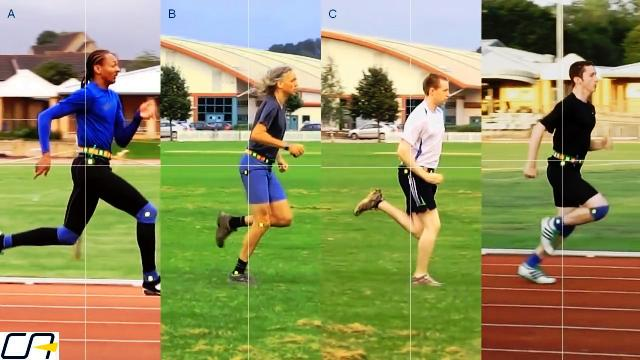berlari: (0, 41, 158, 300), (200, 55, 308, 297), (350, 68, 460, 290), (516, 50, 614, 290)
